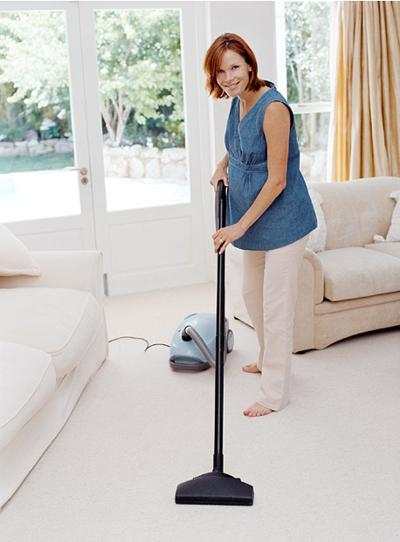person: (204, 34, 318, 423)
